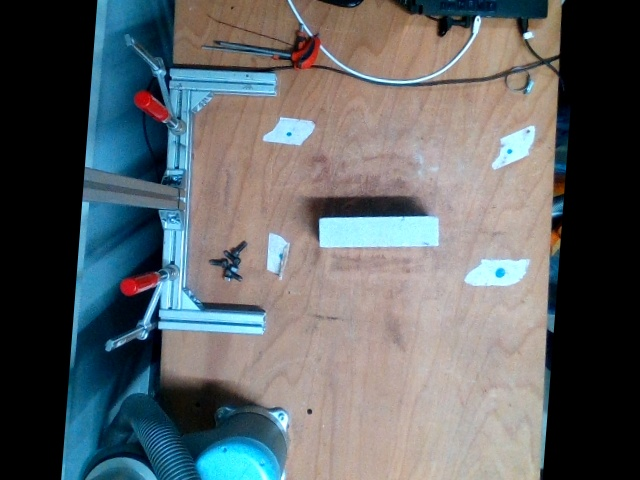brick-side: (319, 214, 439, 246)
